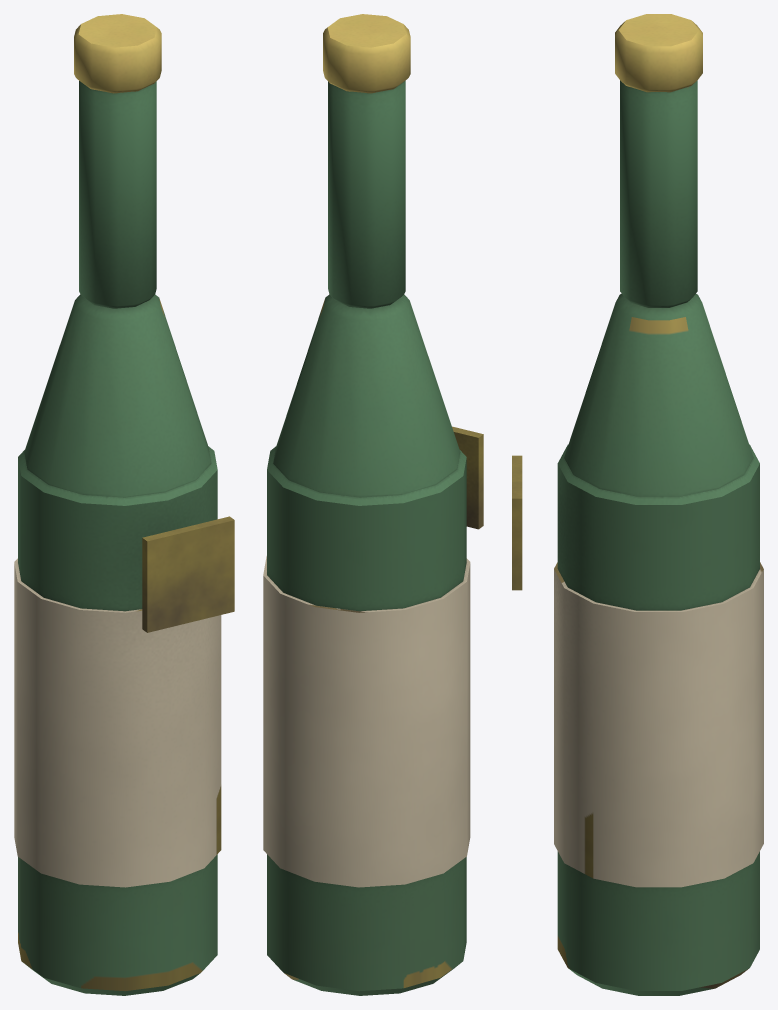
Rendered from g67_pz_bottle_3.glb.
The picture shows the model from 3 angles, left to right: view 1: azimuth 30°, elevation 25°; view 2: azimuth 150°, elevation 25°; view 3: azimuth 270°, elevation 25°; orthographic projection.
Parts seen in each view (by area): view 1: g67_pz_bottle_3, sticker; view 2: g67_pz_bottle_3, sticker; view 3: g67_pz_bottle_3, sticker.
Part boxes in pixels (x1=…): g67_pz_bottle_3: x1=14, y1=14, x2=221, y2=995; sticker: x1=142, y1=516, x2=234, y2=632; g67_pz_bottle_3: x1=263, y1=14, x2=470, y2=995; sticker: x1=452, y1=426, x2=483, y2=529; g67_pz_bottle_3: x1=554, y1=14, x2=763, y2=995; sticker: x1=512, y1=455, x2=522, y2=590.
Bounding box in the file's own units: 0.0809 × 0.405 × 0.0995.
1 material, 1 textured.
